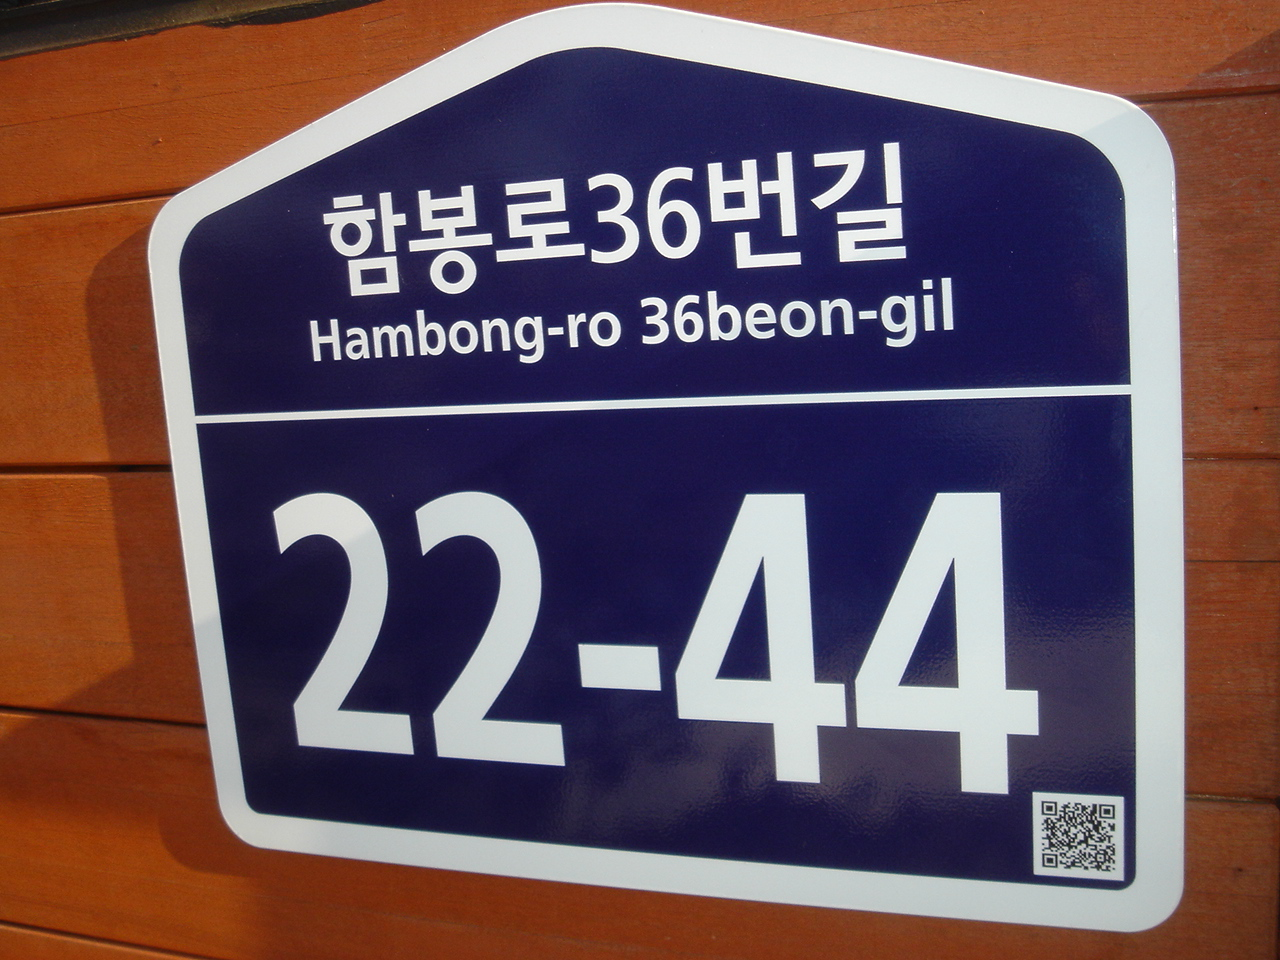building_license_plate1: (145, 2, 1188, 931)
